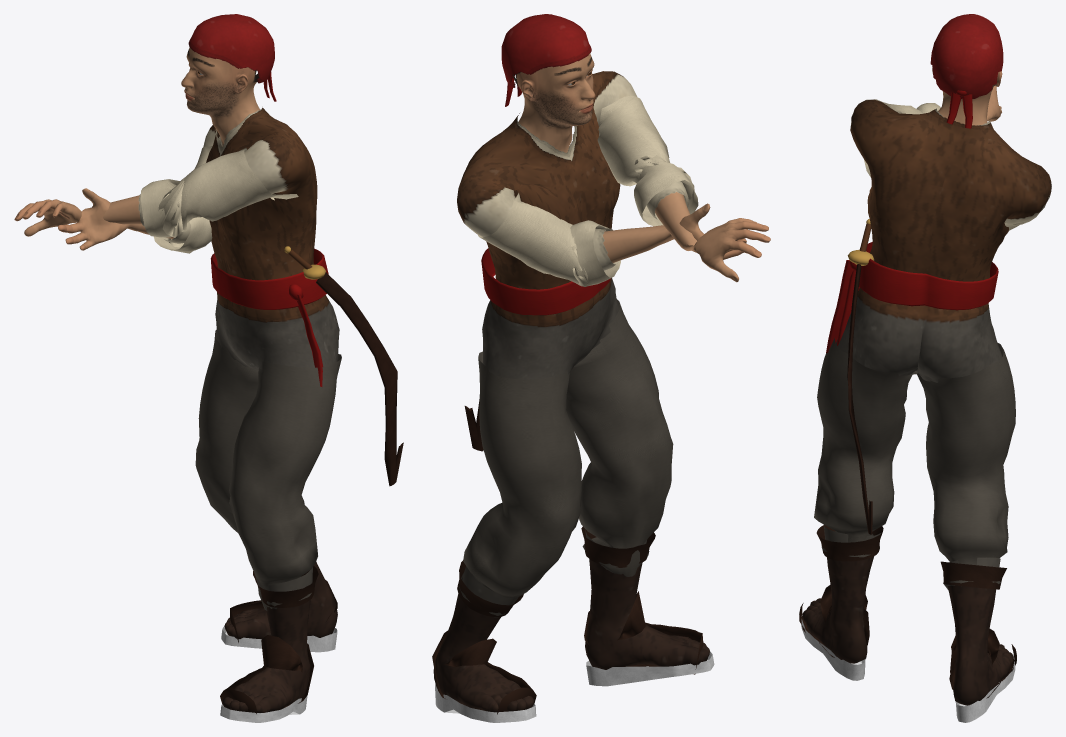
File: SM_Art_Person_boarder.gltf
3 renders of one model, left to right at view 1: azimuth 30°, elevation 25°; view 2: azimuth 150°, elevation 25°; view 3: azimuth 270°, elevation 25°, orthographic. The views are drawn at different scales.
Visible parts, largest first — view 1: SM_Art_Person_boarder; view 2: SM_Art_Person_boarder; view 3: SM_Art_Person_boarder.
Boxes of the visible parts, box(x1,y1,x2,y2) form: SM_Art_Person_boarder: box(14, 14, 403, 722); SM_Art_Person_boarder: box(432, 14, 770, 722); SM_Art_Person_boarder: box(799, 14, 1051, 722).
Size of the model in its own units: 0.949 by 1.79 by 0.6296.
19 materials, 17 textured.
